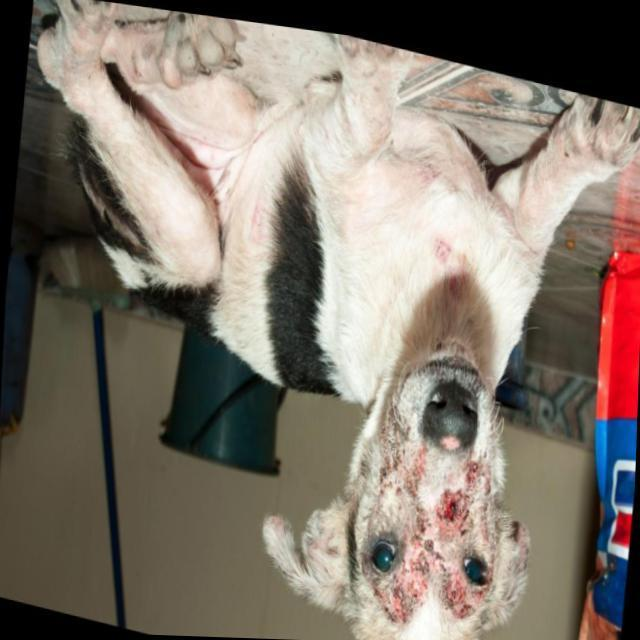mange: (385, 458, 486, 618)
